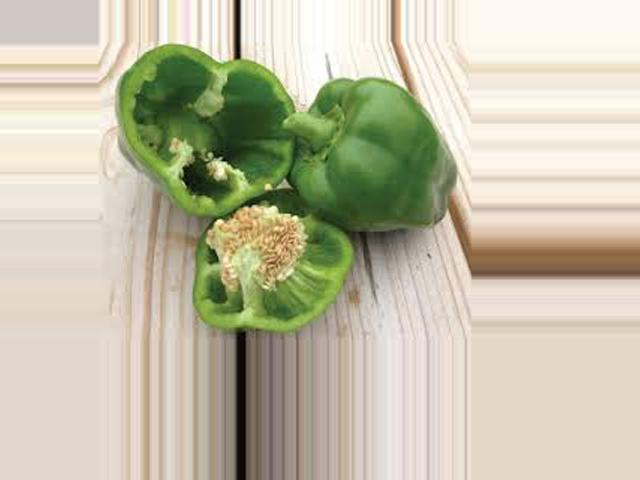bell_pepper: (158, 191, 364, 331)
